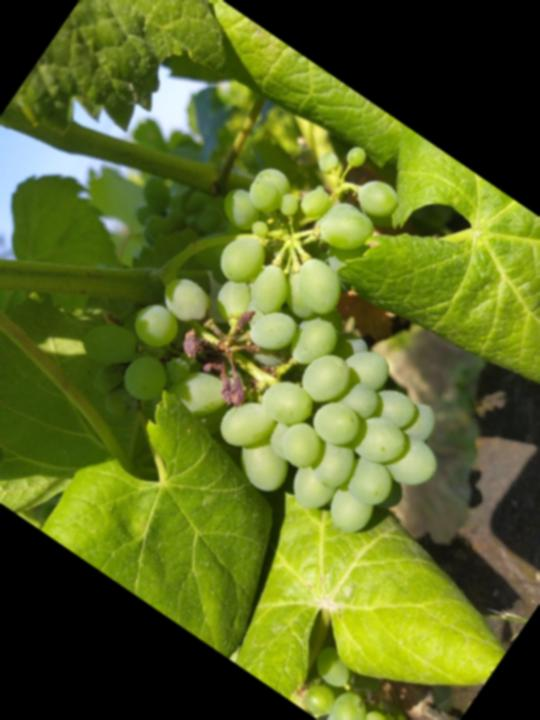grape: (53, 75, 540, 588)
